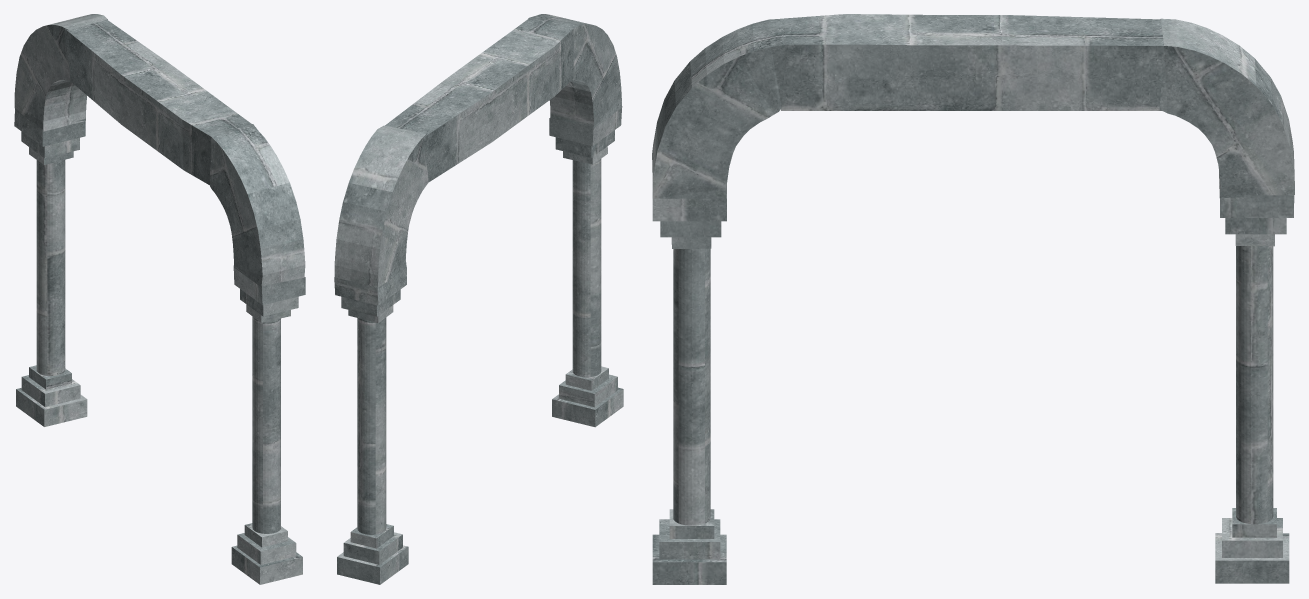
The model's file is arch_center.obj.
3 views of the same model, side by side, from view 1: azimuth 30°, elevation 25°; view 2: azimuth 150°, elevation 25°; view 3: azimuth 270°, elevation 25° (orthographic). The views are drawn at different scales.
Visible parts, largest first — view 1: Cube; view 2: Cube; view 3: Cube.
Boxes of the visible parts, x1=… form: Cube: x1=14, y1=14, x2=305, y2=584; Cube: x1=334, y1=14, x2=623, y2=584; Cube: x1=652, y1=14, x2=1294, y2=584.
Bounding box in the file's own units: 1.92 × 15.09 × 16.26.
Materials: 1 (1 with a texture image).
